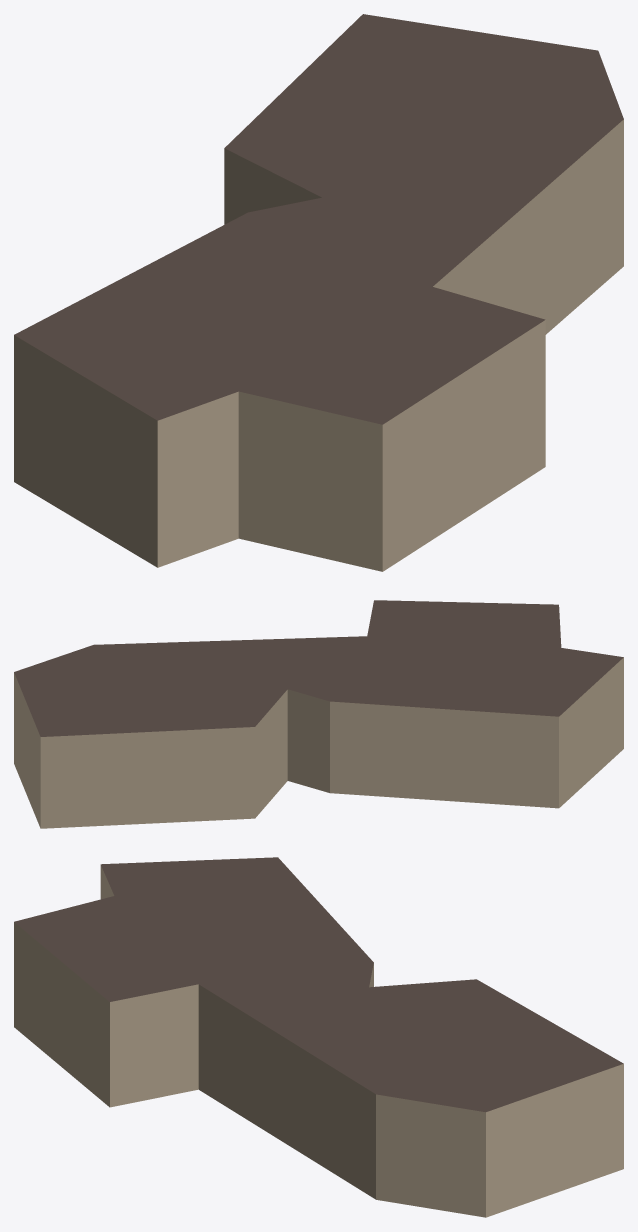
The picture shows the model from 3 angles, top to bottom: view 1: azimuth 30°, elevation 25°; view 2: azimuth 150°, elevation 25°; view 3: azimuth 270°, elevation 25°; orthographic projection. The views are drawn at different scales.
Parts seen in each view (by area): view 1: HP-w298243646; view 2: HP-w298243646; view 3: HP-w298243646.
Part boxes in pixels (left/top/right/bottom): HP-w298243646: left=14, top=14, right=623, bottom=571; HP-w298243646: left=14, top=600, right=623, bottom=828; HP-w298243646: left=14, top=857, right=623, bottom=1217.
Bounding box in the file's own units: 46.7 × 9 × 47.21.
